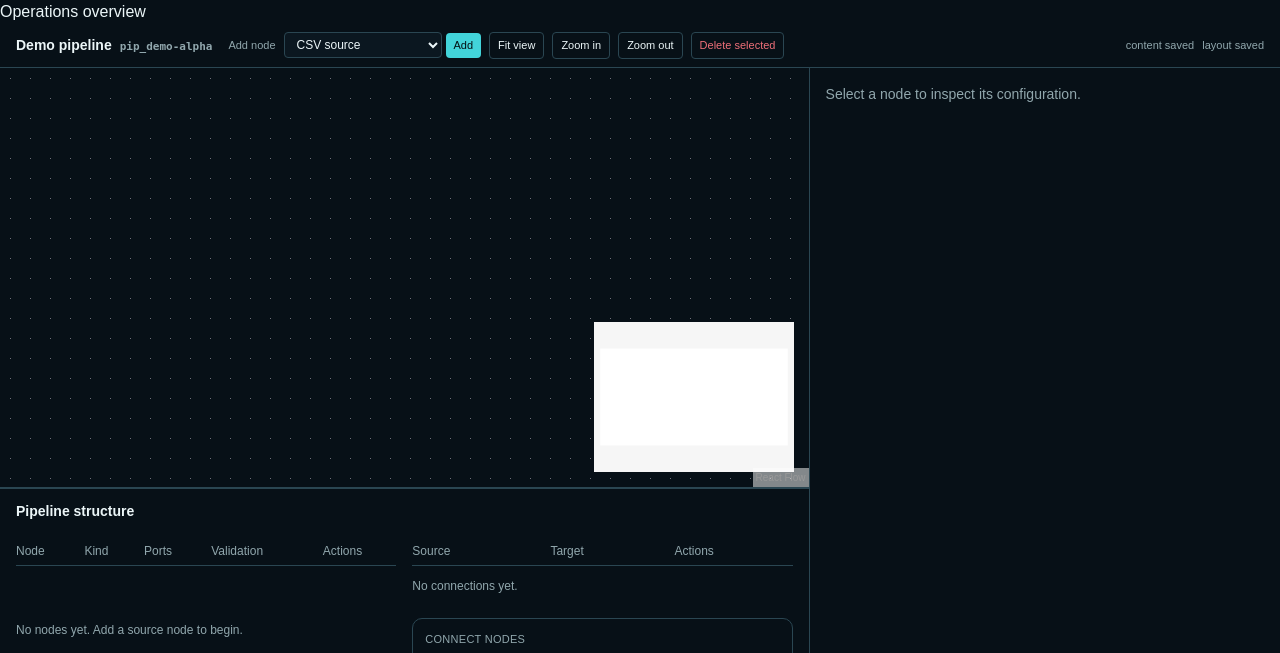
Test: pipeline studio › blocks leaving with unsaved changes and offers stay-or-leave
Expected: the element with test id "studio-canvas" is shown, 0,68 -> 809,488
Select "CSV source" in the dropdown labelled "Add node". click: (362, 45)
box: 284,32 -> 442,58
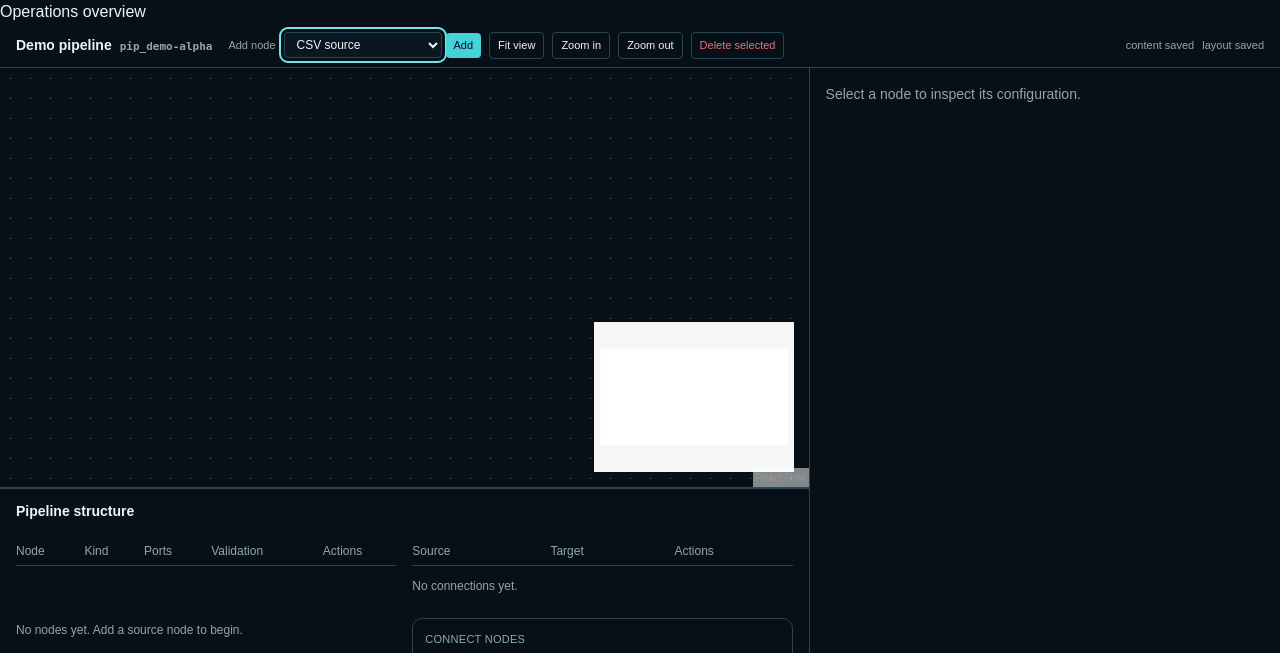
Click the button with test id "add-node-button". click: (463, 45)
box: 446,33 -> 481,58
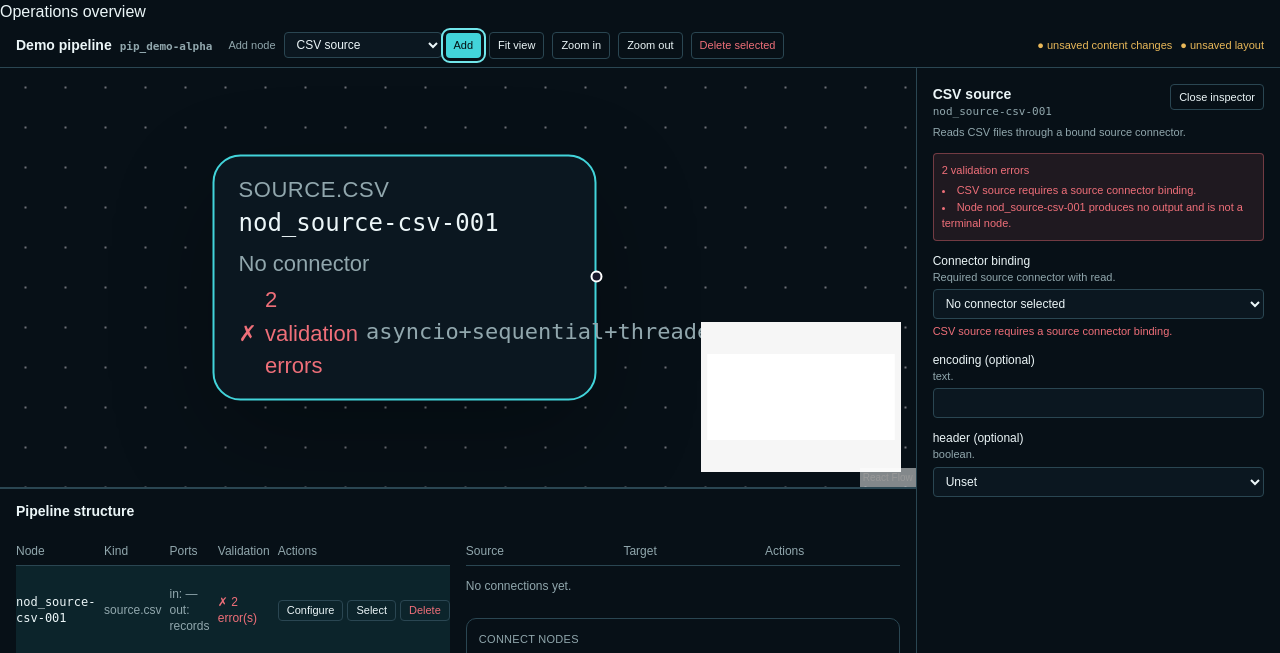
# Navigating away is blocked while the draft has unsaved changes.
Click the link "Operations overview". click: (73, 12)
box: 0,3 -> 146,20
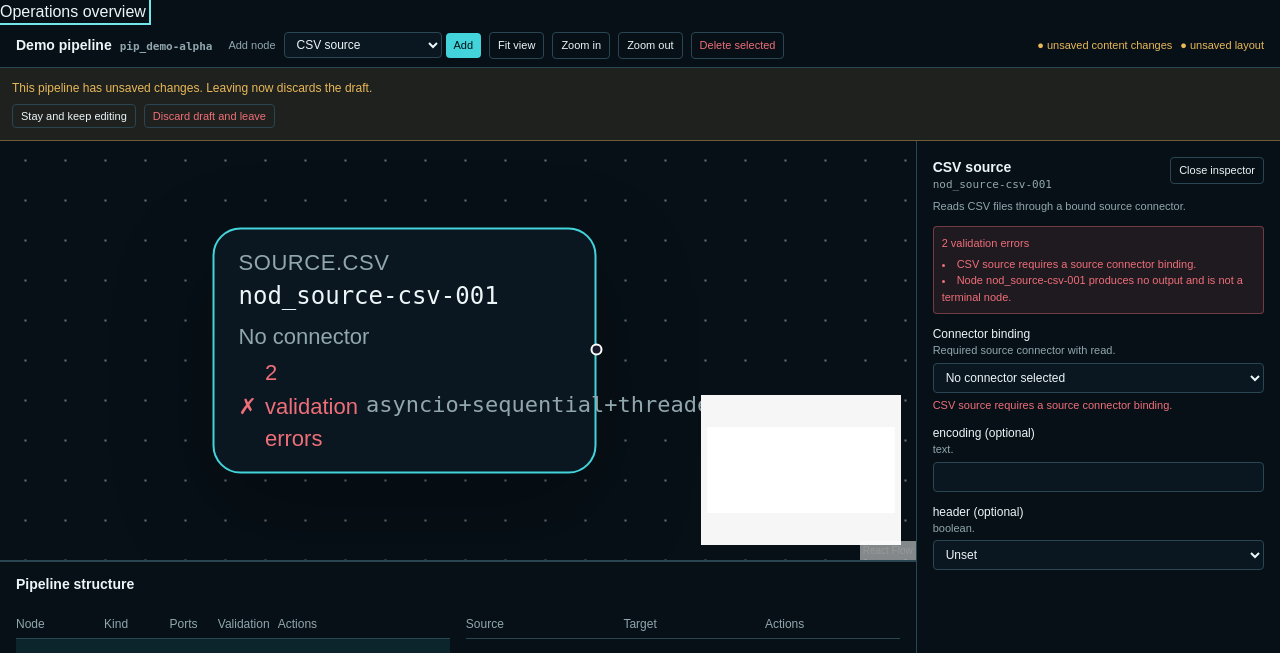
Expected: the dialog with test id "draft-guard" is shown, 0,68 -> 1279,141
Click the button "Stay and keep editing". click: (74, 116)
box: 12,104 -> 136,128
(page scrolled)
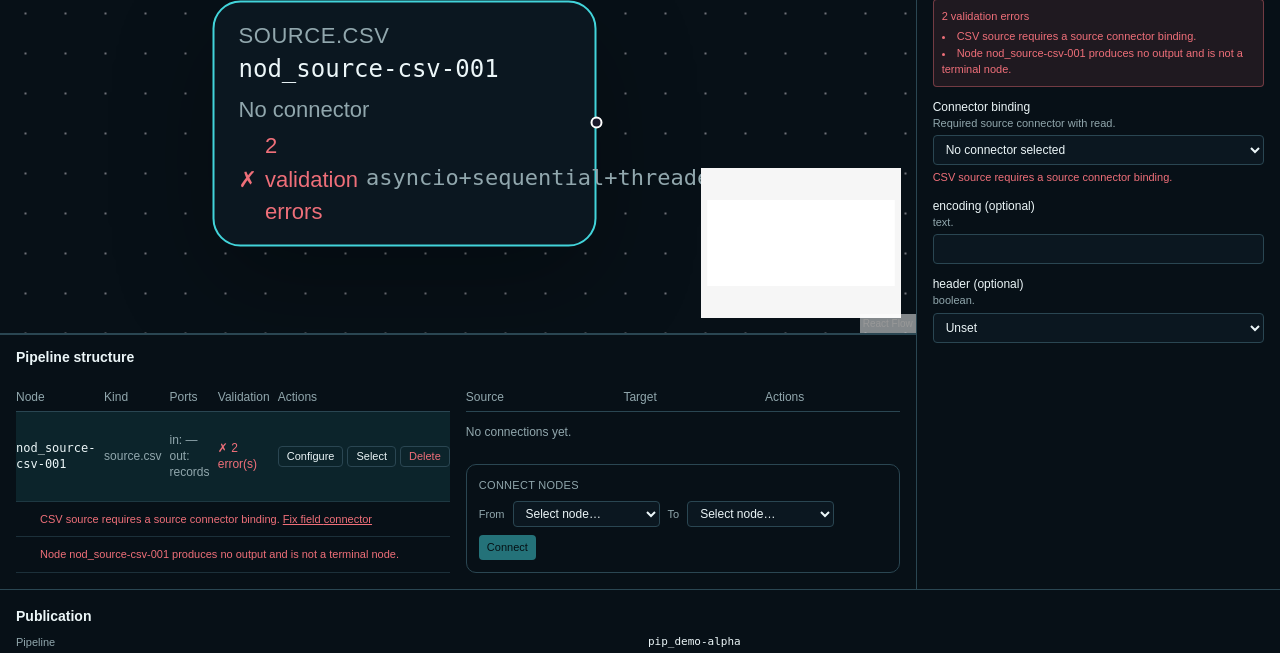
Expected: the dialog with test id "draft-guard" is gone
